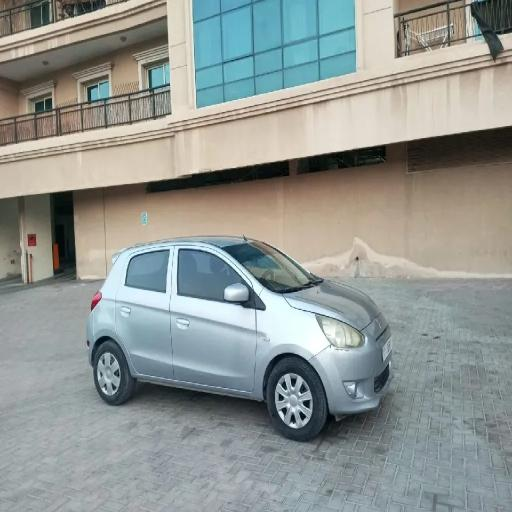license-plates: (382, 335, 393, 363)
